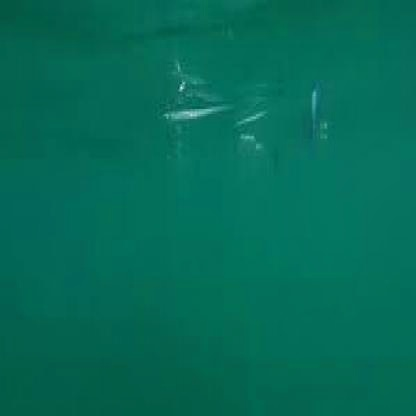pbottle: (147, 52, 340, 171)
